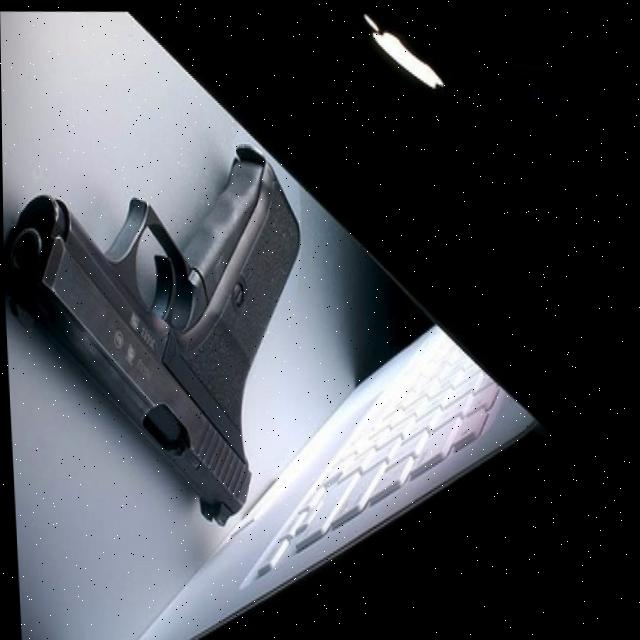pistol: (2, 137, 314, 536)
